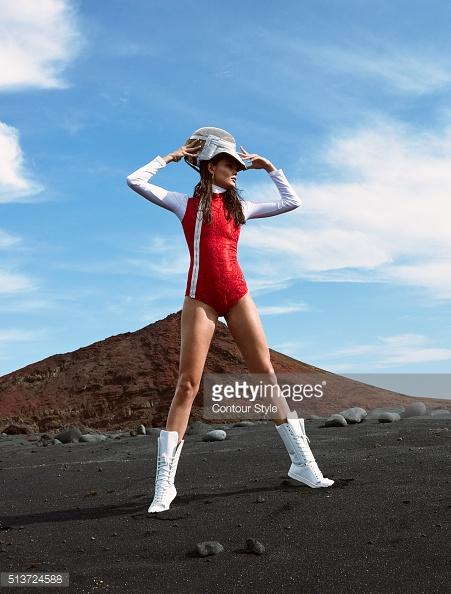em pe: (134, 86, 317, 513)
